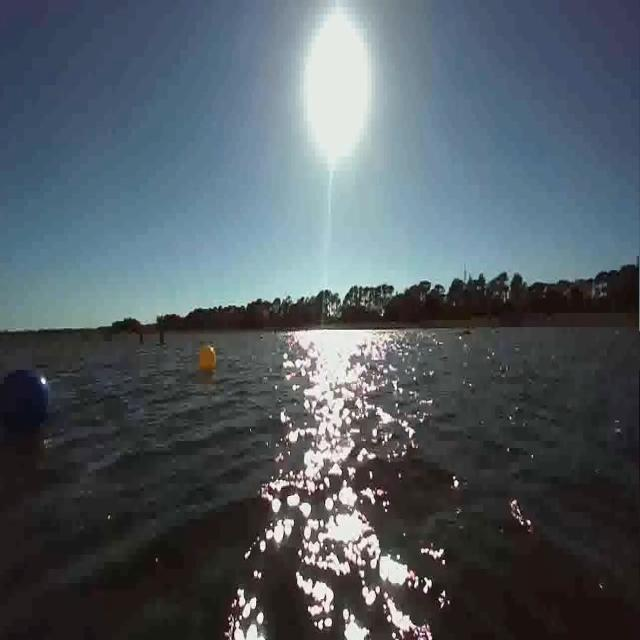blue-buoy: (0, 367, 51, 441)
yellow-buoy: (199, 342, 218, 373)
